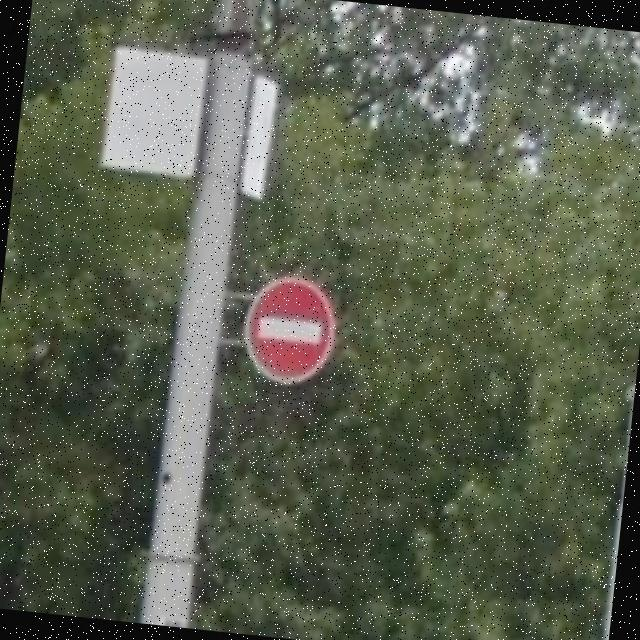Zakaz wjazdu: (232, 261, 343, 396)
